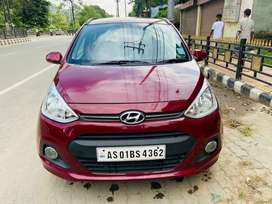AS01BS4362: (96, 144, 166, 162)
